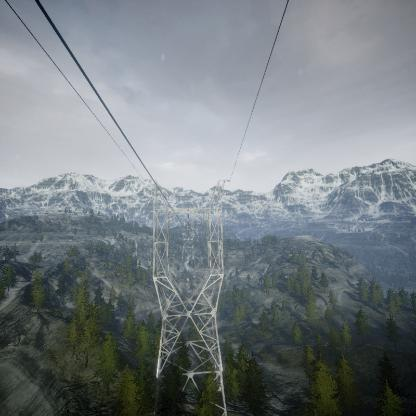tower: (145, 174, 230, 412)
